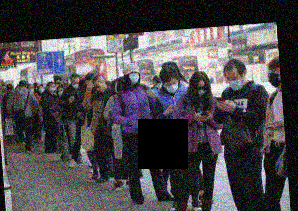with_mask: (225, 74, 243, 91), (268, 66, 280, 88), (164, 79, 178, 93), (194, 83, 208, 97), (128, 71, 140, 84), (70, 80, 79, 89), (56, 88, 63, 97), (48, 84, 55, 93), (37, 86, 44, 94), (26, 86, 34, 93)
without_mask: (92, 83, 104, 93)
